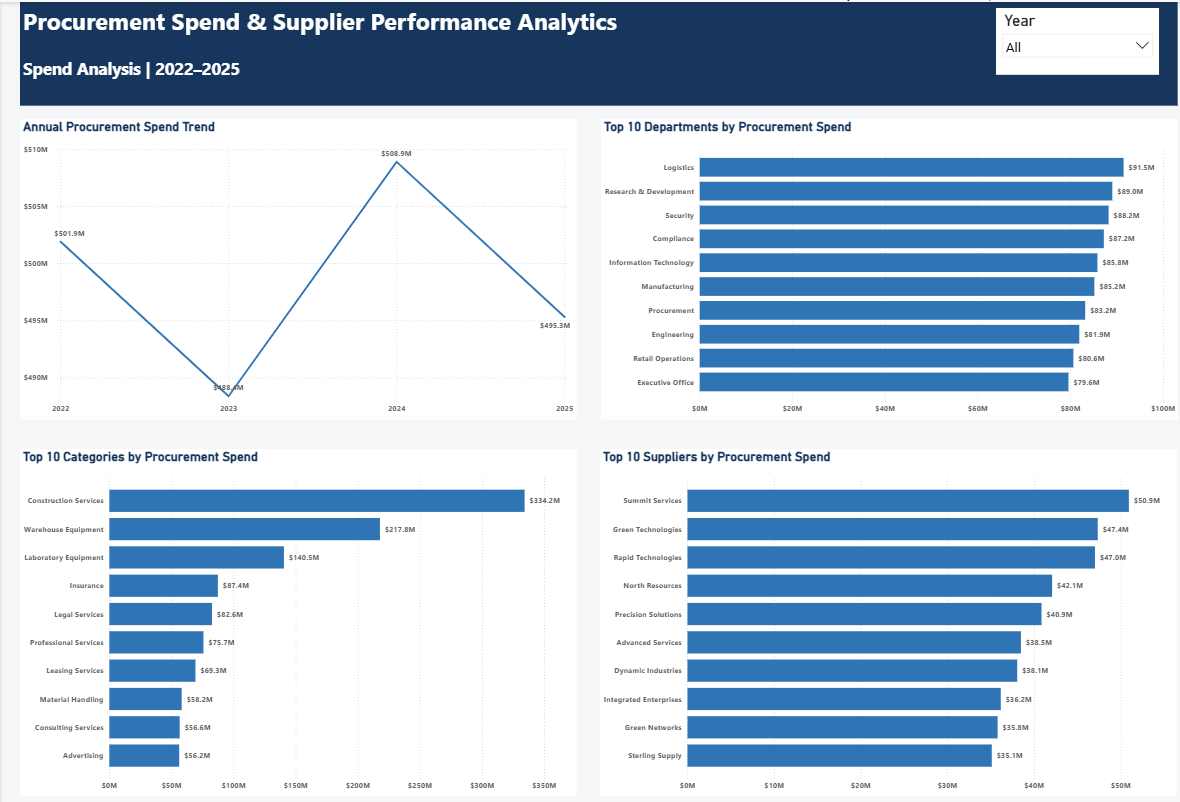

The dashboard page shown, as its layout file describes it:
{"tool":"powerbi","page":{"name":"Spend Analysis","canvas":[1920,1300],"ordinal":1},"visuals":[{"type":"lineChart","title":"Annual Procurement Spend Trend","fields":{"Category":["PurchaseOrders.OrderYear"],"Y":["PurchaseOrders.Total Procurement Spend"]},"box":[29.3,187.9,890.8,480.8],"z":0},{"type":"clusteredBarChart","title":"Top 10 Departments by Procurement Spend","fields":{"Category":["Departments.DepartmentName"],"Y":["PurchaseOrders.Total Procurement Spend"]},"box":[959.2,187.9,925,480.8],"z":1000},{"type":"clusteredBarChart","title":"Top 10 Categories by Procurement Spend","fields":{"Category":["Products.Category"],"Y":["PurchaseOrderItems.Total Line Spend"]},"box":[29.3,715.1,890.8,556.5],"z":2000},{"type":"clusteredBarChart","title":"Top 10 Suppliers by Procurement Spend","fields":{"Y":["PurchaseOrders.Total Procurement Spend"],"Category":["Suppliers.SupplierName"]},"box":[956.7,715.1,925,556.5],"z":3000},{"type":"textbox","box":[29.3,0,1854.9,166],"z":5000},{"type":"slicer","fields":{"Values":["PurchaseOrders.OrderYear"]},"box":[1591.3,9.8,261.1,107.4],"z":6000}]}

Visuals, with their boxes in screenshot pixels (x1, y1, x2, y2), scaled from the page's 1920x1300 canvas onto the 1180x802 screenshot:
"Annual Procurement Spend Trend" lineChart: region(18, 116, 565, 413)
"Top 10 Departments by Procurement Spend" clusteredBarChart: region(590, 116, 1158, 413)
"Top 10 Categories by Procurement Spend" clusteredBarChart: region(18, 441, 565, 784)
"Top 10 Suppliers by Procurement Spend" clusteredBarChart: region(588, 441, 1156, 784)
textbox: region(18, 0, 1158, 102)
slicer - PurchaseOrders.OrderYear: region(978, 6, 1138, 72)
